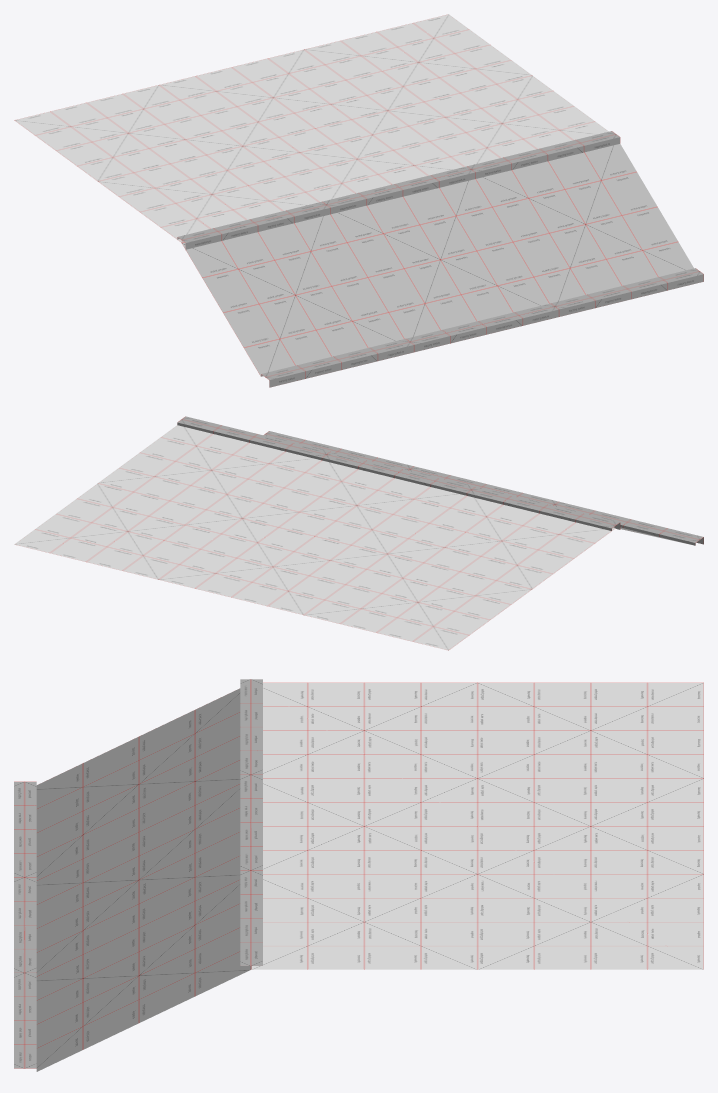
The model's file is pave_3x_grass.FBX.
3 renders of one model, top to bottom at view 1: azimuth 30°, elevation 25°; view 2: azimuth 150°, elevation 25°; view 3: azimuth 270°, elevation 25°, orthographic. The views are drawn at different scales.
Visible parts, largest first — view 1: pave_3x_grass; view 2: pave_3x_grass; view 3: pave_3x_grass.
Boxes of the visible parts, x1=… form: pave_3x_grass: x1=14, y1=14, x2=703, y2=387; pave_3x_grass: x1=14, y1=416, x2=703, y2=650; pave_3x_grass: x1=14, y1=679, x2=703, y2=1071.
Size of the model in its own units: 60 by 61 by 11.
